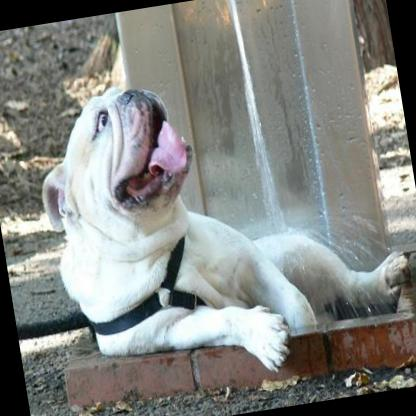pug: (22, 38, 416, 403)
